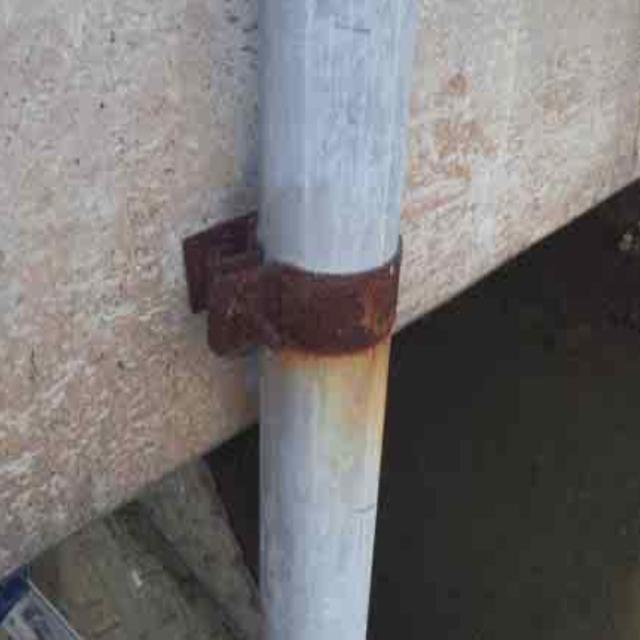corrosion: (194, 190, 427, 384)
